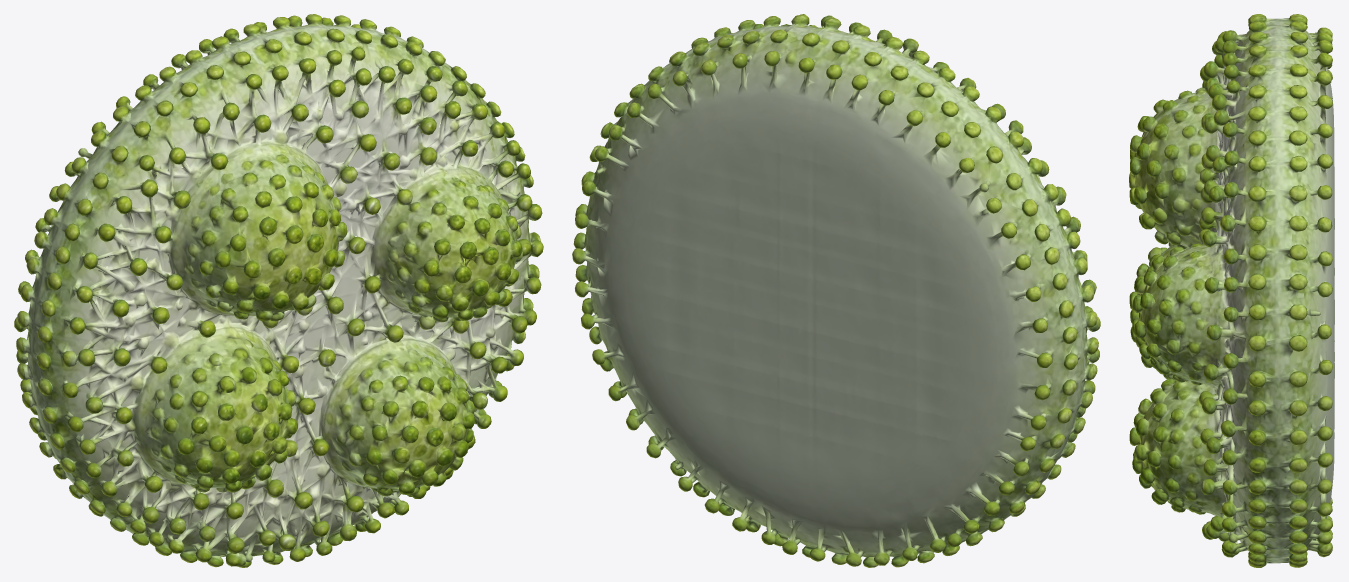
File: volvox.glb
3 renders of one model, left to right at view 1: azimuth 30°, elevation 25°; view 2: azimuth 150°, elevation 25°; view 3: azimuth 270°, elevation 25°, orthographic. The views are drawn at different scales.
Visible parts, largest first — view 1: tripo_node_3e89363f-4c0e-41bb-b89b-ae7b568c4673; view 2: tripo_node_3e89363f-4c0e-41bb-b89b-ae7b568c4673; view 3: tripo_node_3e89363f-4c0e-41bb-b89b-ae7b568c4673.
Boxes of the visible parts, x1,y1,x2,y2 form: tripo_node_3e89363f-4c0e-41bb-b89b-ae7b568c4673: (14,14,543,567); tripo_node_3e89363f-4c0e-41bb-b89b-ae7b568c4673: (572,14,1100,567); tripo_node_3e89363f-4c0e-41bb-b89b-ae7b568c4673: (1129,14,1334,567).
Size of the model in its own units: 0.9798 by 0.9779 by 0.3629.
1 material, 1 textured.
